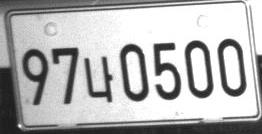0: (216, 37, 247, 98), (184, 39, 214, 99), (119, 43, 149, 102)
5: (153, 41, 182, 101)
7: (50, 46, 80, 105)
9: (20, 47, 49, 106)
나: (82, 55, 113, 103)
